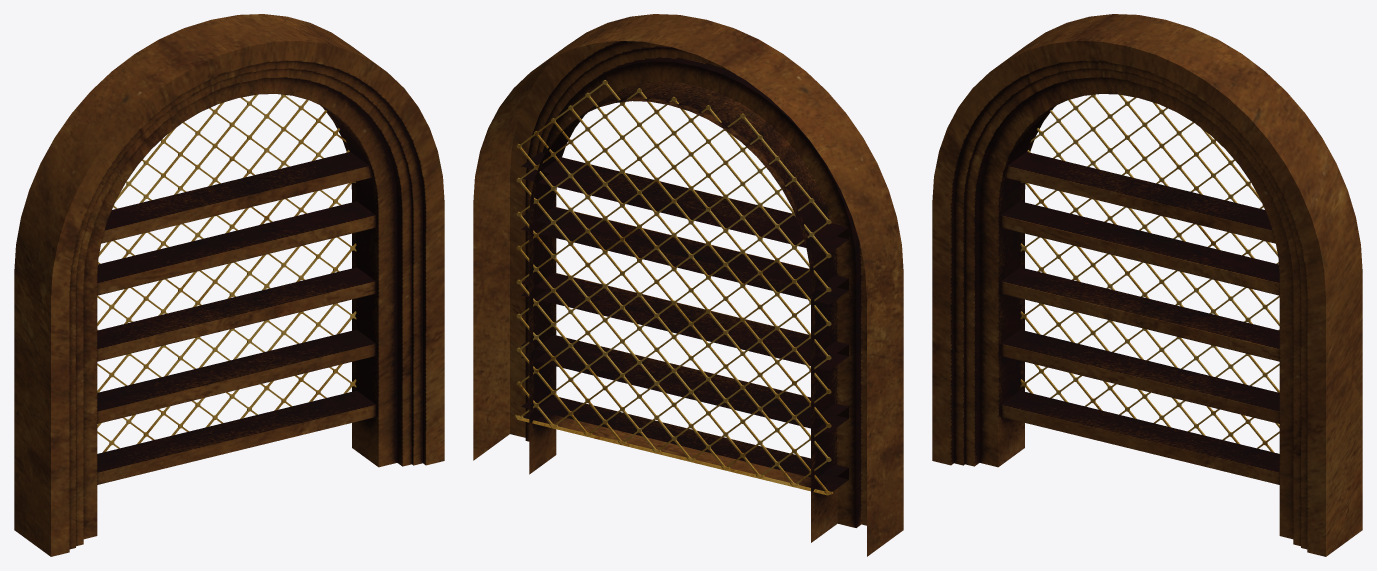
Rendered from PrateleiraDeBebidas.fbx.
3 views of the same model, side by side, from view 1: azimuth 30°, elevation 25°; view 2: azimuth 150°, elevation 25°; view 3: azimuth 330°, elevation 25° (orthographic).
Parts seen in each view (by area): view 1: PrateleiraDeBebidas; view 2: PrateleiraDeBebidas; view 3: PrateleiraDeBebidas.
Boxes of the visible parts, left/top/right/bottom form: PrateleiraDeBebidas: left=14, top=14, right=444, bottom=556; PrateleiraDeBebidas: left=473, top=14, right=903, bottom=556; PrateleiraDeBebidas: left=932, top=14, right=1362, bottom=556.
Bounding box in the file's own units: 262 × 295 × 42.34.
